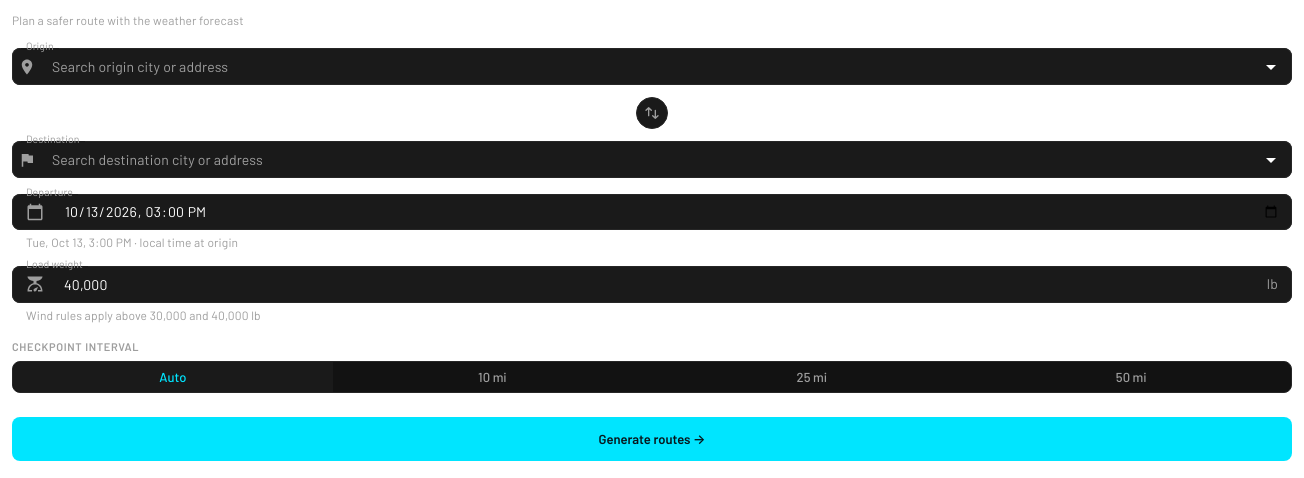
Test: TripForm Component › displays spelled out departure date and time helper text without timezone shift
This screenshot has width=1304, height=478.
Replace the text in the field labelled "Departure" with "2026-10-11T20:00" at point(672, 212), box [52, 194, 1292, 230]
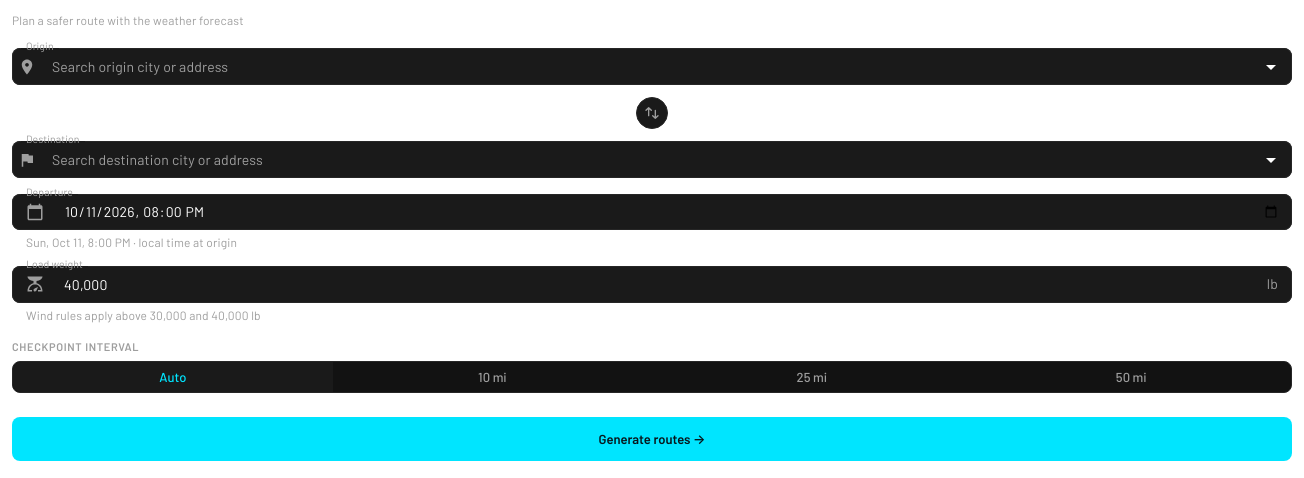
Expected: the text "Sun, Oct 11, 8:00 PM · local time at origin" is shown, [26, 235, 237, 249]
Replace the text in the field labelled "Departure" with "2026-10-12T08:00" at point(672, 212), box [52, 194, 1292, 230]
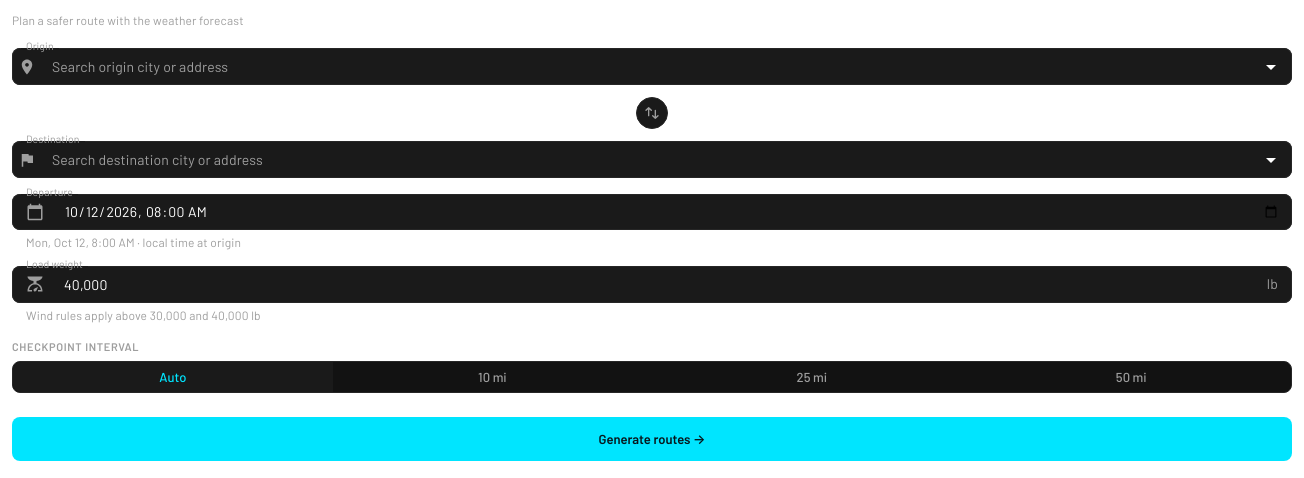
Expected: the text "Mon, Oct 12, 8:00 AM · local time at origin" is shown, [26, 235, 241, 249]
